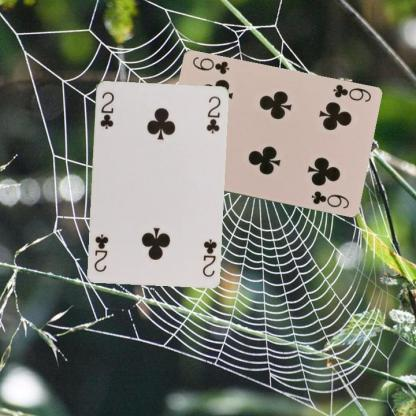2c: (199, 236, 218, 278), (97, 89, 115, 130)
6c: (330, 82, 372, 103)
